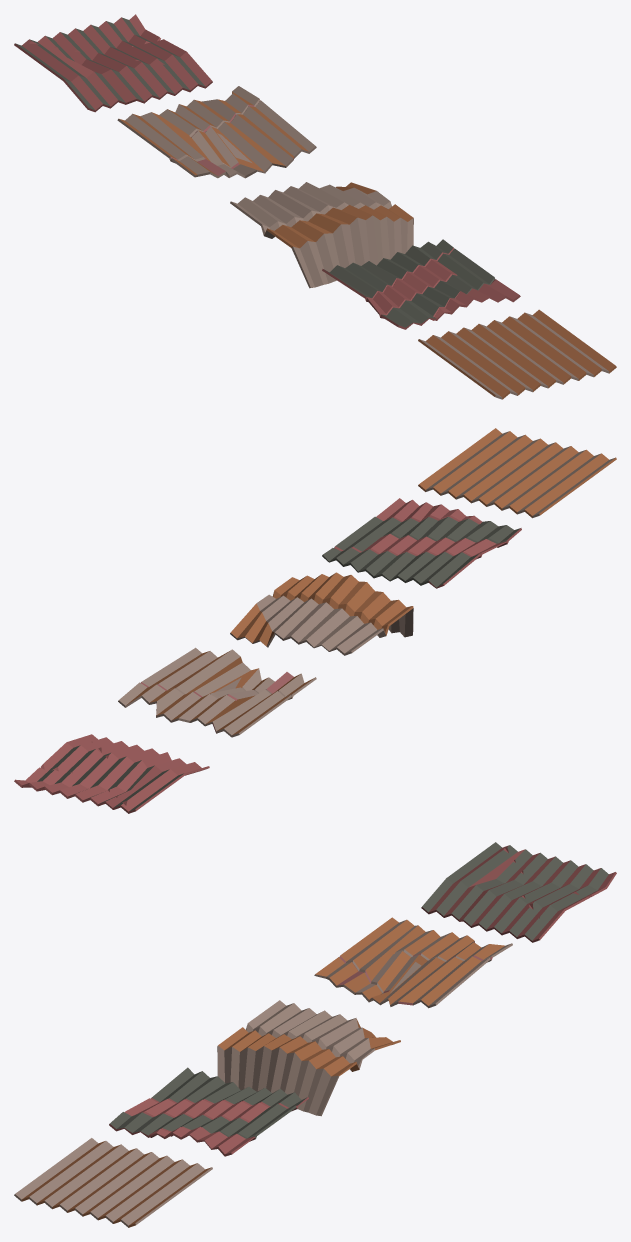
3 renders of one model, top to bottom at view 1: azimuth 30°, elevation 25°; view 2: azimuth 150°, elevation 25°; view 3: azimuth 330°, elevation 25°, orthographic.
Parts seen in each view (by area): view 1: iron_board_III.002, iron_board_III, iron_board_III.001, iron_board_III.004, iron_board_III.003; view 2: iron_board_III.003, iron_board_III.004, iron_board_III.002, iron_board_III.001, iron_board_III; view 3: iron_board_III.002, iron_board_III, iron_board_III.001, iron_board_III.004, iron_board_III.003.
Part boxes in pixels (x1,y1,x2,y2): iron_board_III.002: [230, 182, 413, 288]; iron_board_III: [14, 14, 212, 112]; iron_board_III.001: [117, 86, 316, 178]; iron_board_III.004: [418, 309, 616, 399]; iron_board_III.003: [322, 239, 520, 329]; iron_board_III.003: [322, 498, 521, 588]; iron_board_III.004: [418, 428, 616, 518]; iron_board_III.002: [230, 572, 413, 655]; iron_board_III.001: [118, 647, 316, 737]; iron_board_III: [14, 734, 209, 813]; iron_board_III.002: [217, 1000, 400, 1116]; iron_board_III: [421, 842, 616, 942]; iron_board_III.001: [314, 917, 512, 1008]; iron_board_III.004: [14, 1138, 212, 1227]; iron_board_III.003: [109, 1067, 308, 1156].
Size of the model in its own units: 259 by 108 by 1727.
